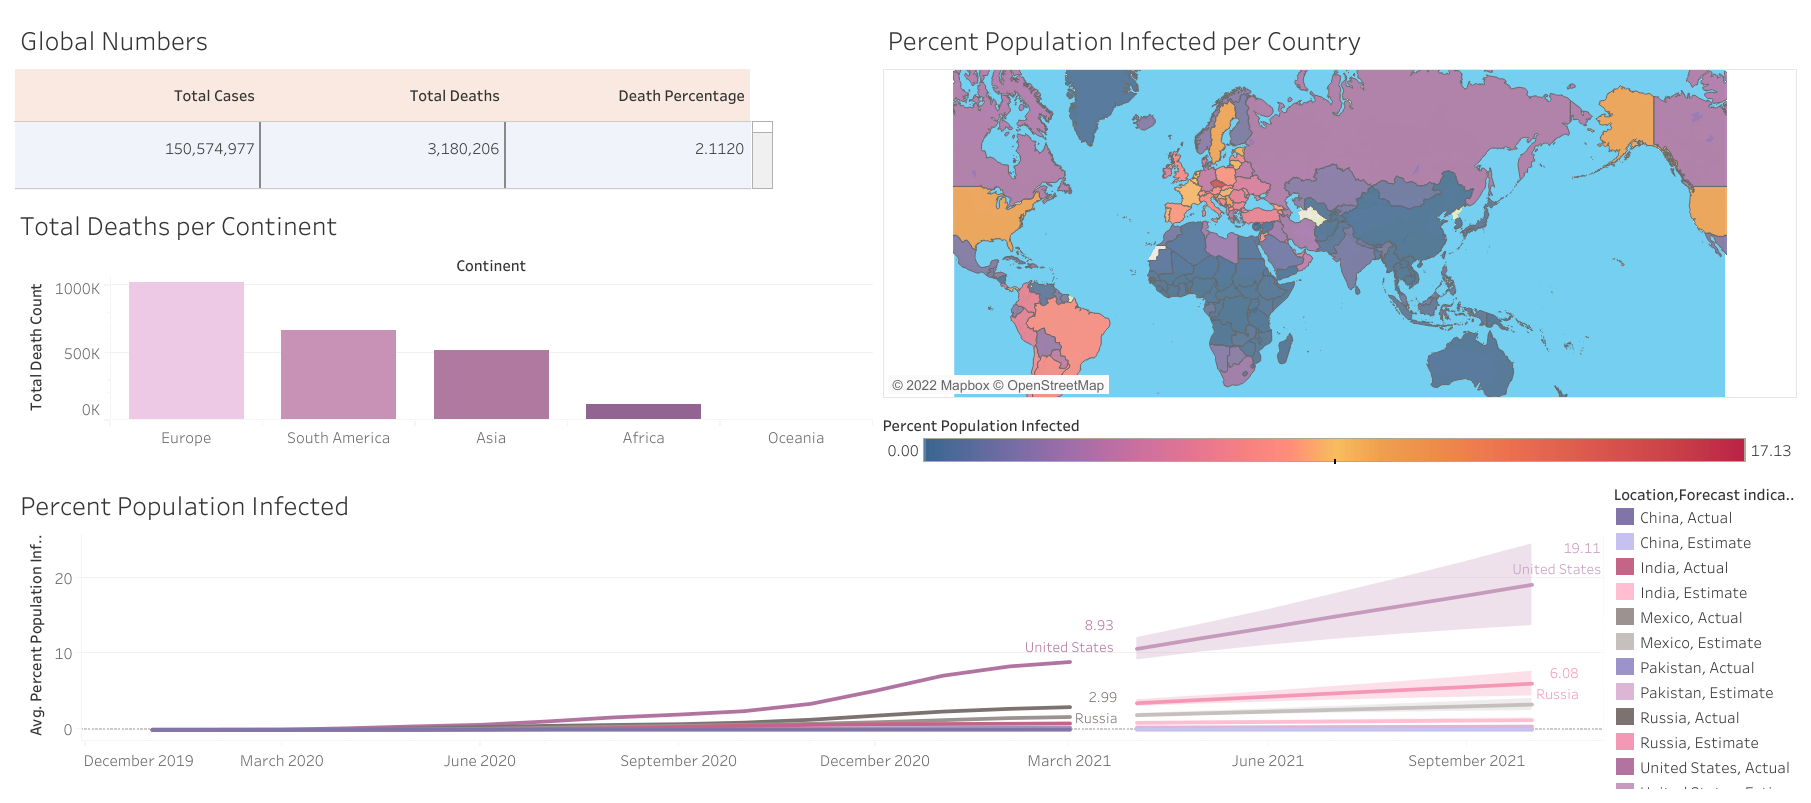

This screenshot's page, from the dashboard's own definition file:
{"tool":"tableau","page":{"name":"Dashboard 1","canvas":[1000,1000],"units":"permille","ordinal":0},"visuals":[{"type":"worksheet","title":"Sheet 1","mark":"Automatic","box":[5.5,9.3,478.6,231.9]},{"type":"worksheet","title":"Sheet 3","mark":"Automatic","box":[484.1,9.3,510.3,516.3]},{"type":"worksheet","title":"Sheet 2","mark":"Automatic","rows":["TotalDeathCount"],"cols":["location"],"box":[5.5,241.2,478.6,350.7]},{"type":"legend","title":"Sheet 3","param":"[federated.0nkxcwf0ybnbks1dgbcgt1c5i71p].[sum:PercentPopulationInfected:qk]","box":[484.1,525.6,510.3,66.3]},{"type":"worksheet","title":"Sheet 4","mark":"Automatic","rows":["PercentPopulationInfected"],"cols":["date"],"box":[5.5,591.9,881.4,398.8]},{"type":"legend","title":"Sheet 4","param":"[federated.148pifa0l5htcu18wvx9k0uauscf].[none:Location:nk]\n[federated.148pifa0l","box":[886.9,591.9,107.6,398.8]}]}

Visuals, with their boxes on the dashboard's canvas, which has no fixed pixel size, in thousandths of its width and height (x1, y1, x2, y2). These are canvas units, not pixel positions in the 1811x803 screenshot, which may show the page scaled, cropped or inside an application window:
"Sheet 1" worksheet: [x1=6, y1=9, x2=484, y2=241]
"Sheet 3" worksheet: [x1=484, y1=9, x2=994, y2=526]
"Sheet 2" worksheet: [x1=6, y1=241, x2=484, y2=592]
"Sheet 3" legend: [x1=484, y1=526, x2=994, y2=592]
"Sheet 4" worksheet: [x1=6, y1=592, x2=887, y2=991]
"Sheet 4" legend: [x1=887, y1=592, x2=994, y2=991]
